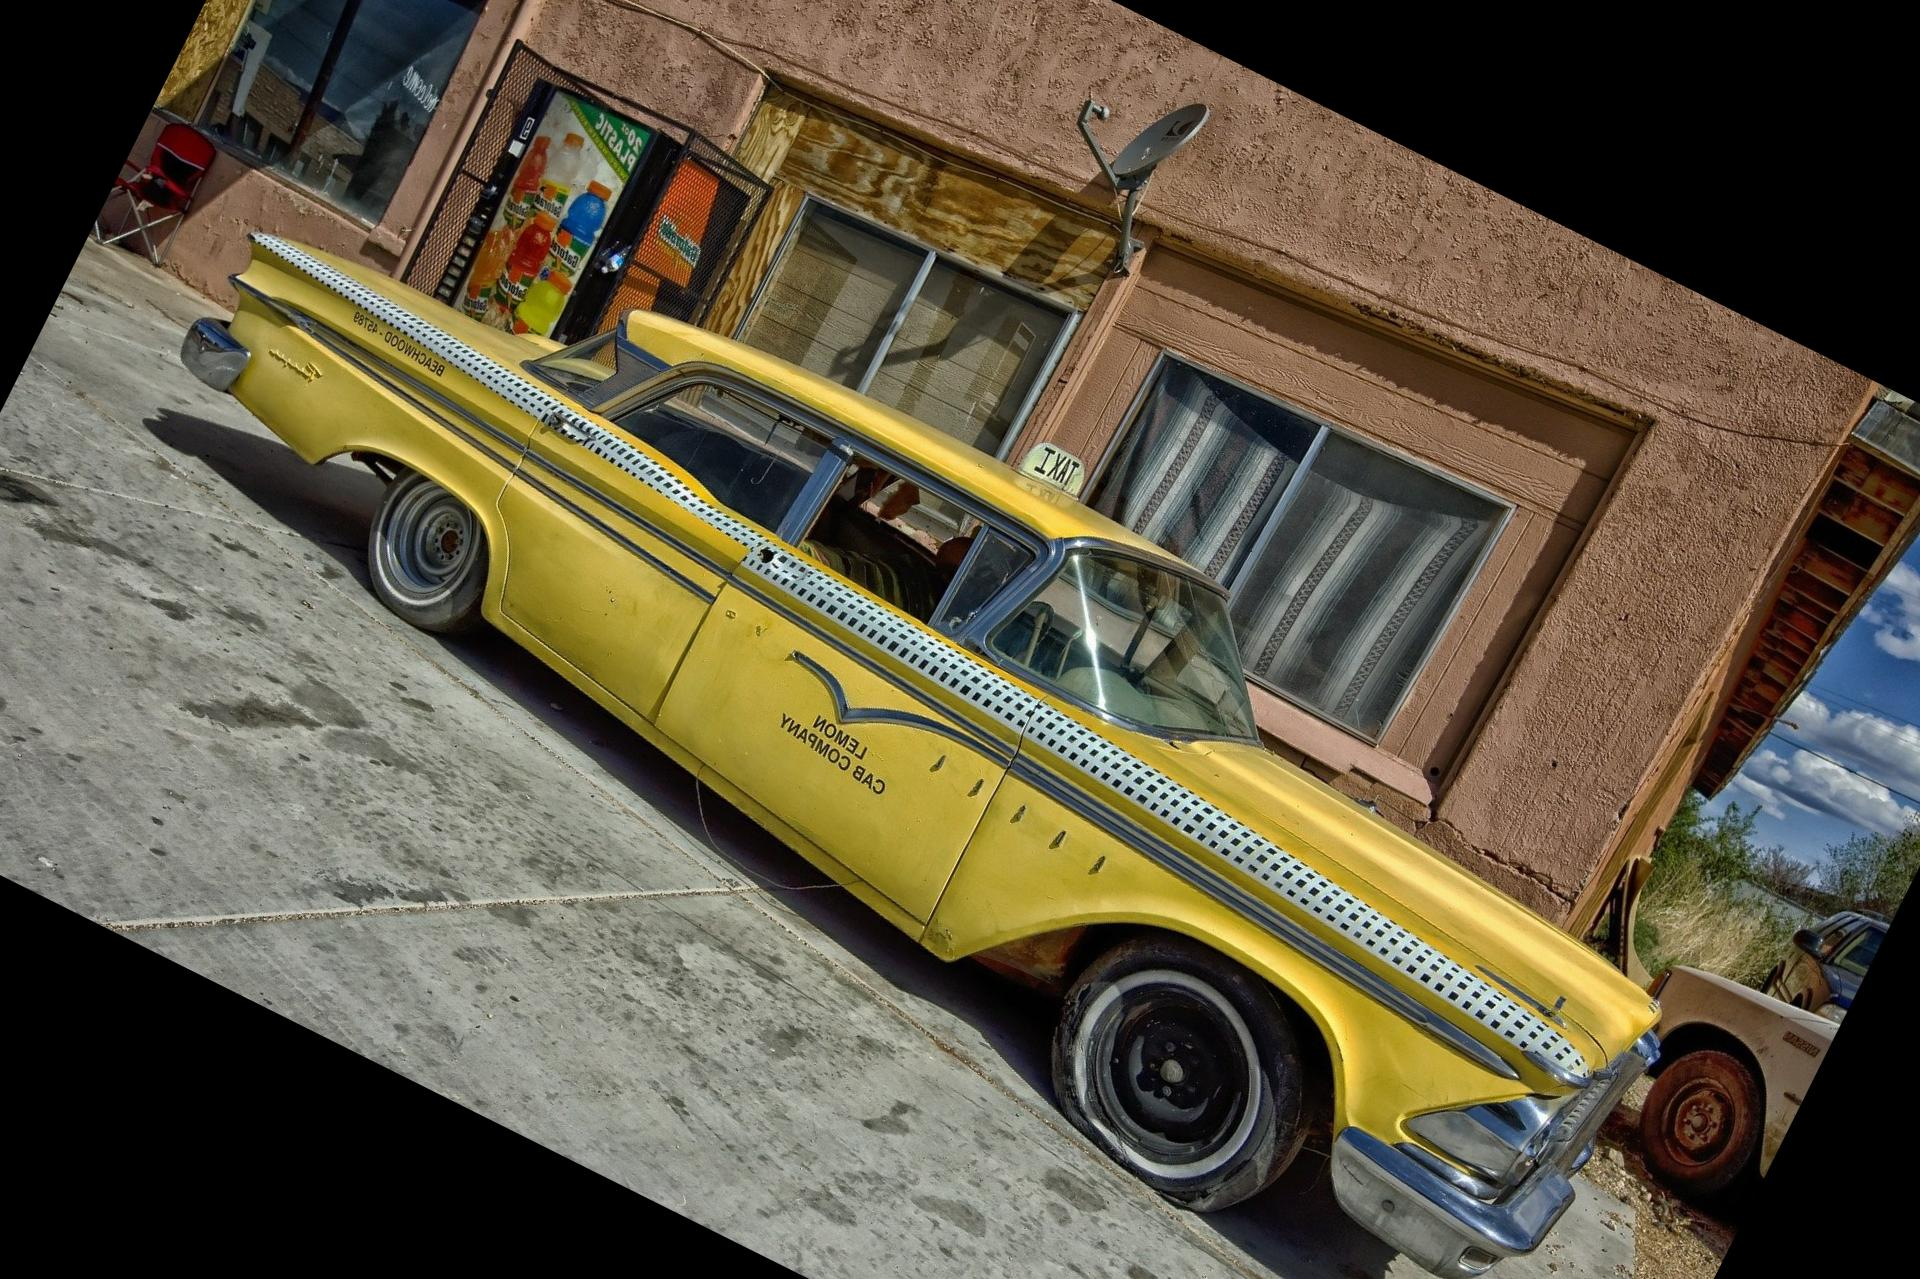taxi: (208, 214, 1632, 1270)
